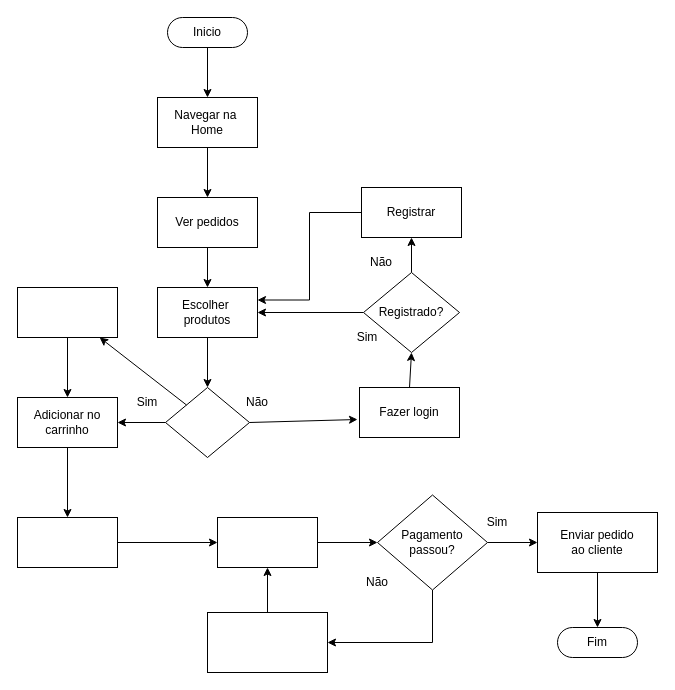
Some shapes in this 675 by 690 pixel diagram are drawn without their labels. Here are the shapes that lost their labels. From the top down, the centre of each, then its label:
(67,312): Ver meus pedidos
(207,422): Logado?
(67,542): Confirmar pedido
(267,542): Fazer pagamento
(267,642): Tente novamente
